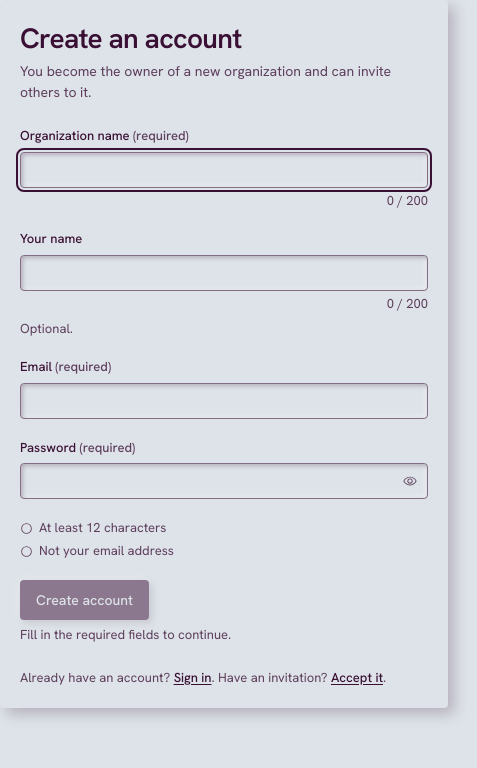
Scenario: RegisterForm › explains a registration_closed answer
Type "Sam Labs" into the field labelled "Organization name (required)".
click(224, 170); type("Sam Labs")  # box left=20, top=152, right=428, bottom=188
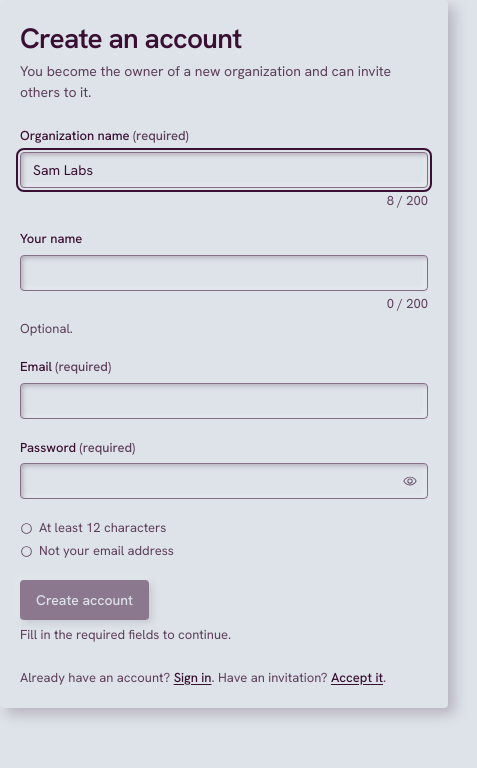
Type "sam@example.test" into the field labelled "Email (required)".
click(224, 401); type("sam@example.test")  # box left=20, top=383, right=428, bottom=419
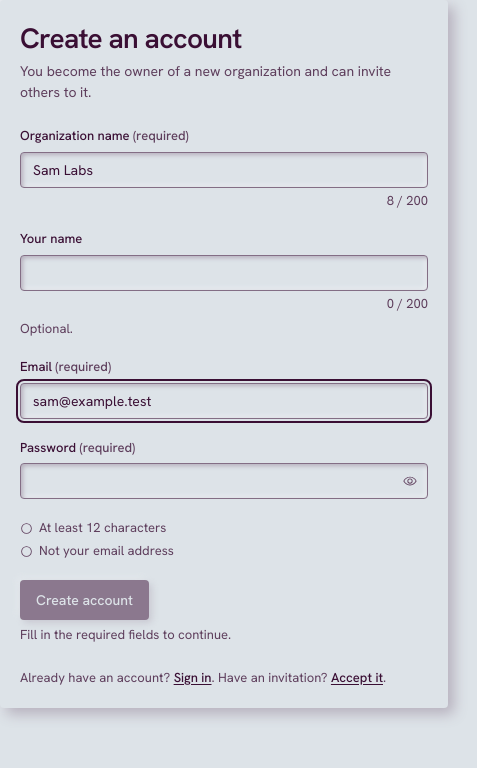
Type "correct horse battery staple" into the password field labelled "Password (required)".
click(224, 481); type("correct horse battery staple")  # box left=20, top=463, right=428, bottom=499
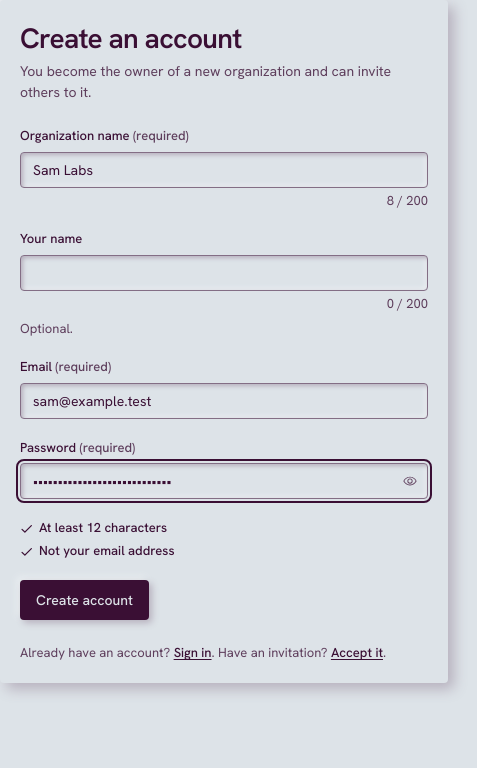
Click the button "Create account".
click(84, 600)  # box left=20, top=580, right=149, bottom=620
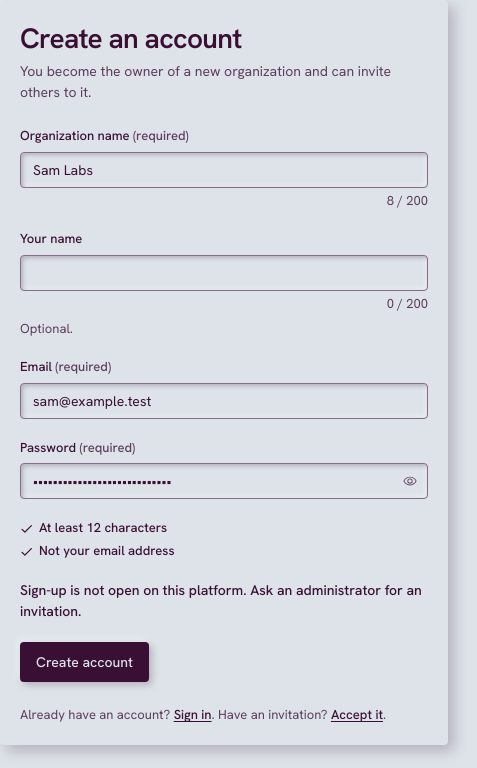
Check: the message shows "Sign-up is not open", box left=20, top=581, right=422, bottom=620
